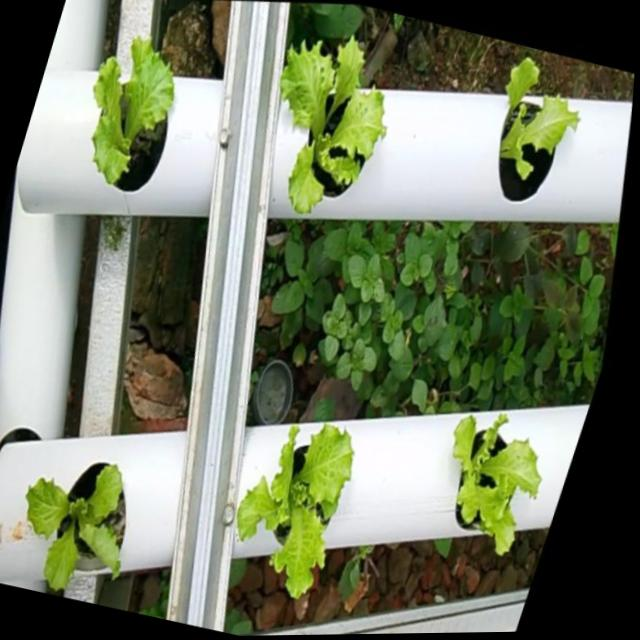Baby: (235, 418, 351, 593), (279, 26, 384, 210), (24, 455, 125, 584), (91, 32, 173, 186), (451, 411, 538, 552), (497, 57, 576, 200)
